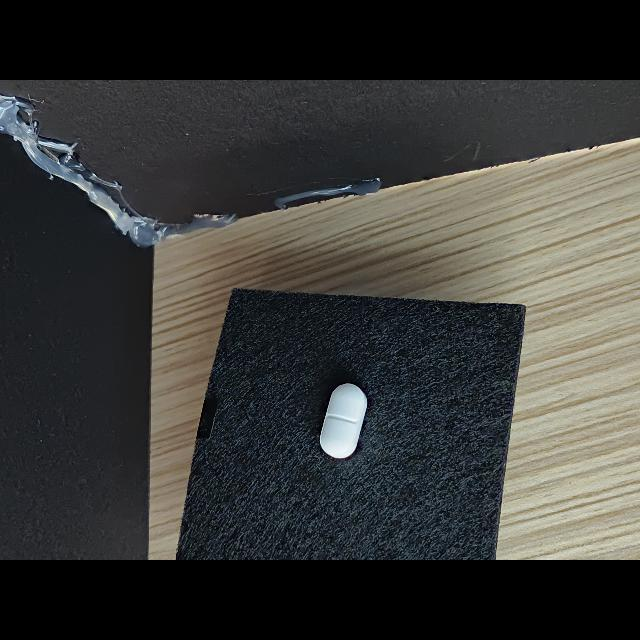Intact Pill: (320, 383, 367, 458)
